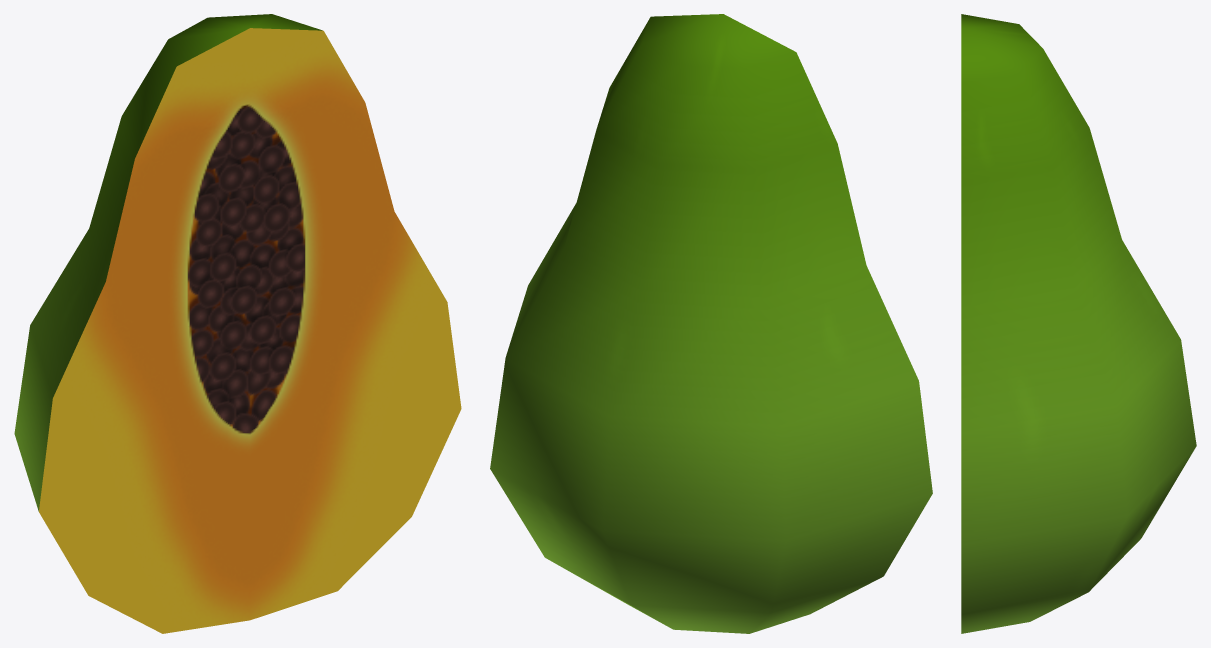
The model's file is papaya.glb.
3 renders of one model, left to right at view 1: azimuth 30°, elevation 25°; view 2: azimuth 150°, elevation 25°; view 3: azimuth 270°, elevation 25°, orthographic. The views are drawn at different scales.
Visible parts, largest first — view 1: papaya_half_mesh; view 2: papaya_half_mesh; view 3: papaya_half_mesh.
Boxes of the visible parts, x1,y1,x2,y2 form: papaya_half_mesh: (14,14,461,633); papaya_half_mesh: (490,14,932,633); papaya_half_mesh: (961,14,1196,633).
Bounding box in the file's own units: 0.8875 × 1.19 × 0.4437.
